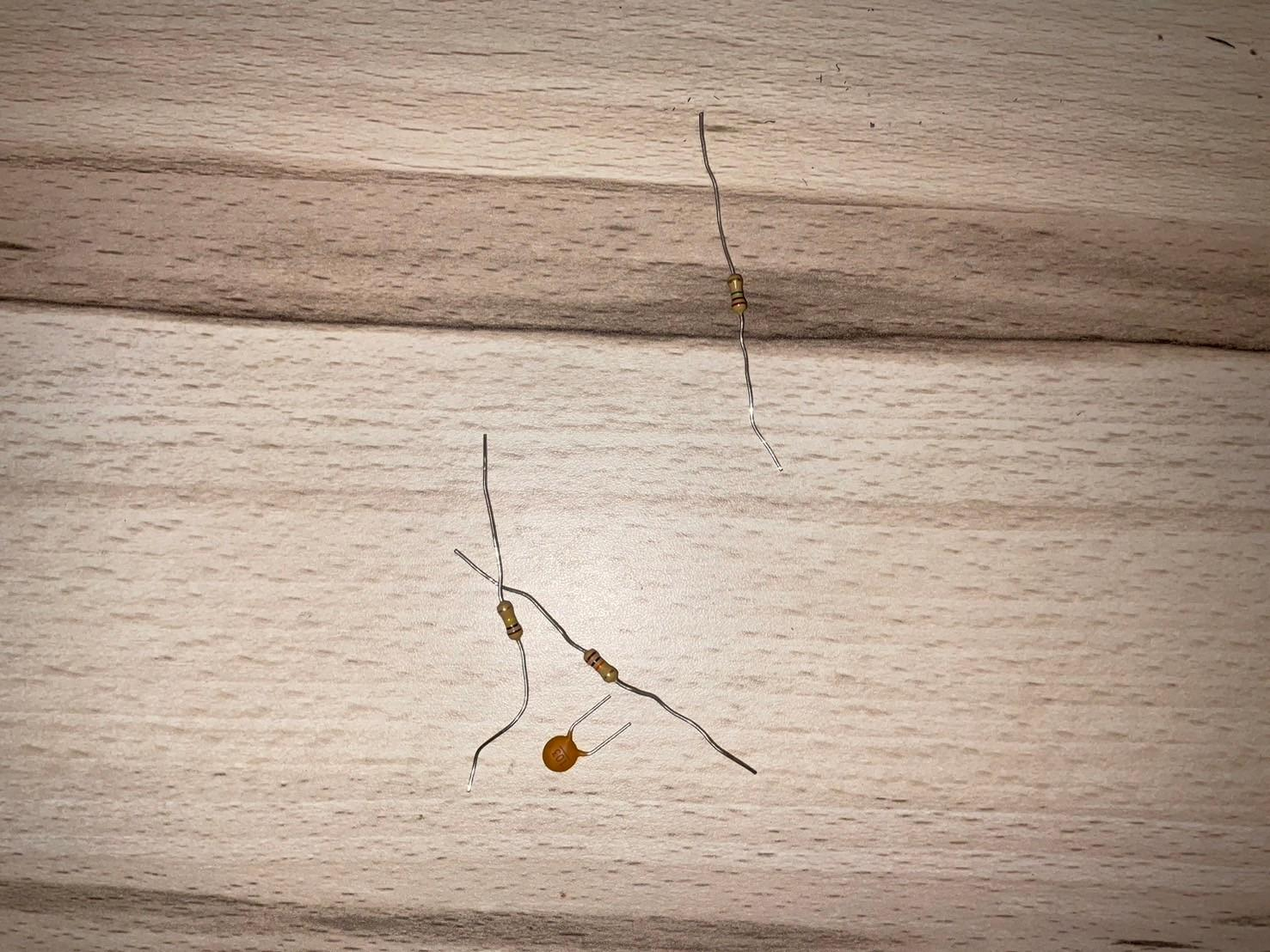resistor: (582, 648, 620, 684), (494, 600, 524, 642), (726, 273, 749, 315)
